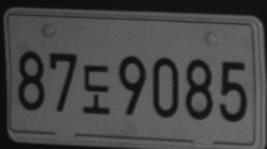0: (151, 56, 179, 118)
5: (218, 61, 248, 122)
7: (48, 52, 77, 112)
8: (184, 58, 213, 120), (17, 50, 45, 111)
9: (118, 55, 146, 114)
도: (82, 64, 110, 114)
